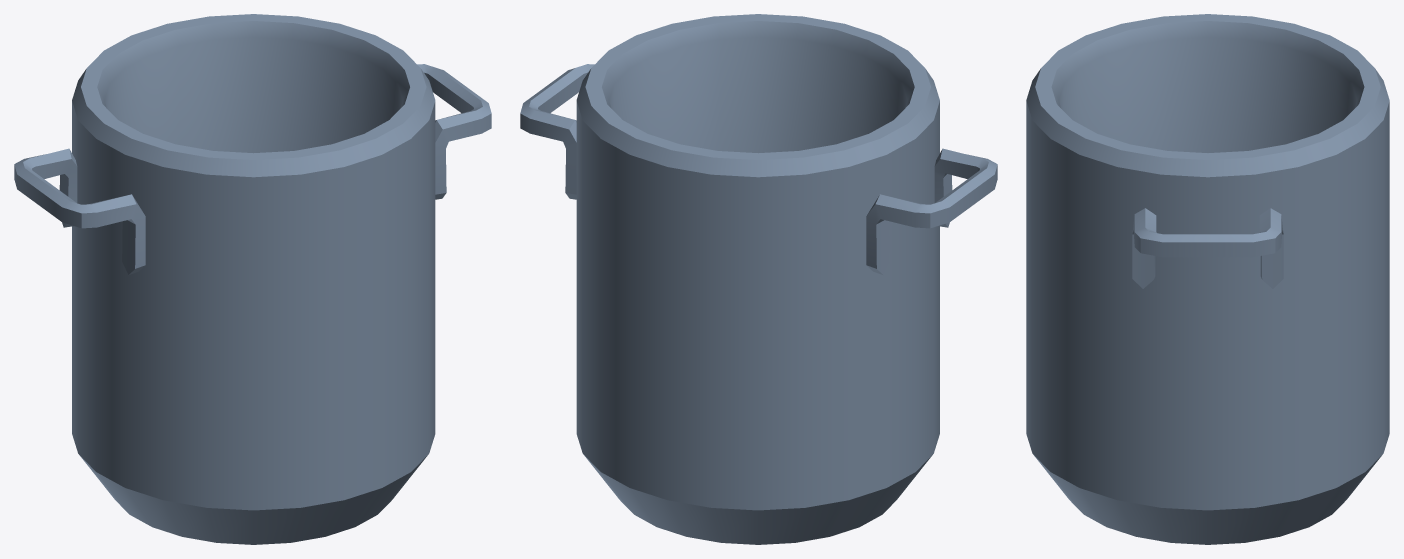
Rendered from quaternius-sushi-restaurant-environment-pot-2-empty.glb.
3 views of the same model, side by side, from view 1: azimuth 30°, elevation 25°; view 2: azimuth 150°, elevation 25°; view 3: azimuth 270°, elevation 25° (orthographic).
Parts seen in each view (by area): view 1: Environment_Pot_2_Empty; view 2: Environment_Pot_2_Empty; view 3: Environment_Pot_2_Empty.
Part boxes in pixels (<box>): Environment_Pot_2_Empty: <box>14,14,491,544</box>; Environment_Pot_2_Empty: <box>520,14,997,544</box>; Environment_Pot_2_Empty: <box>1026,14,1389,544</box>.
Size of the model in its own units: 1.4 by 1.25 by 1.04.
1 material, 1 textured.
